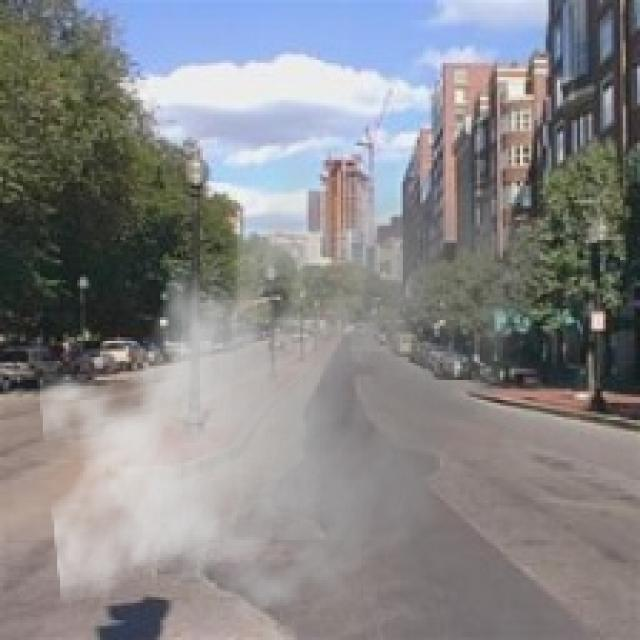smoke: (37, 114, 557, 637)
